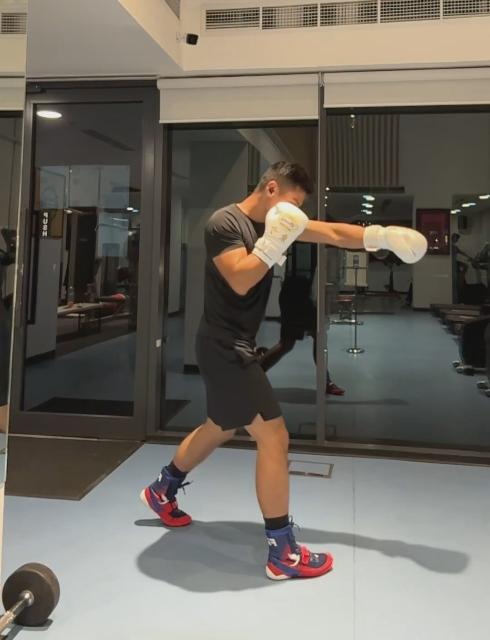punch: (136, 155, 430, 585)
